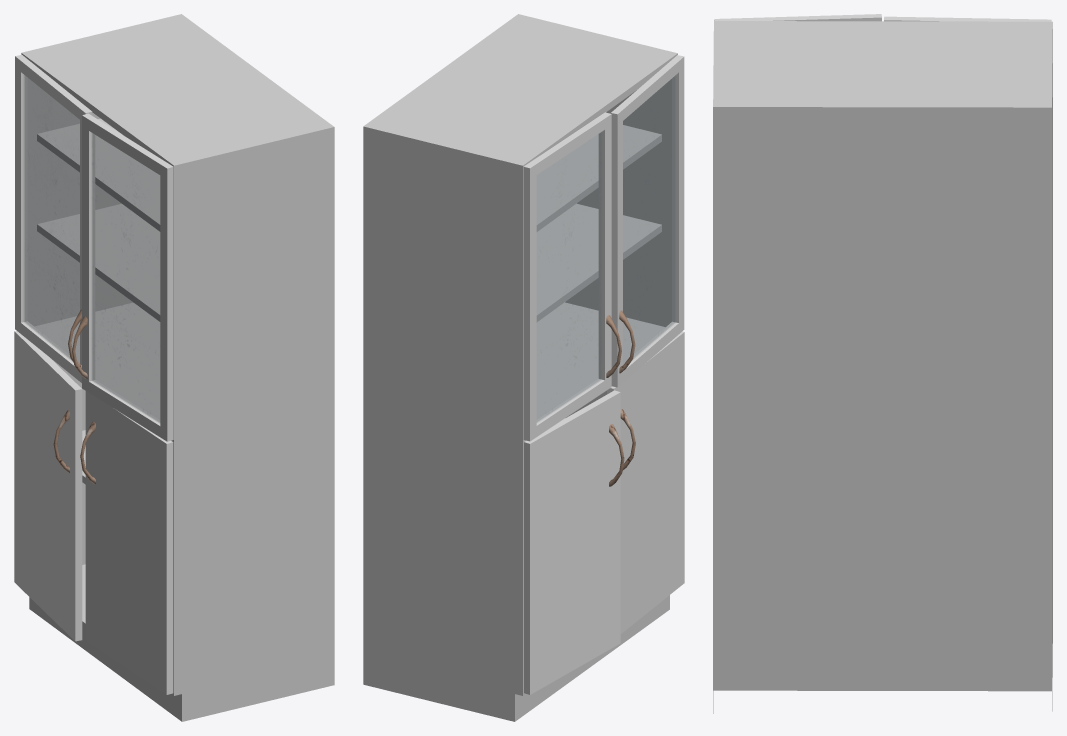
Rendered from cabinet-3.glb.
3 renders of one model, left to right at view 1: azimuth 30°, elevation 25°; view 2: azimuth 150°, elevation 25°; view 3: azimuth 270°, elevation 25°, orthographic. The views are drawn at different scales.
Parts seen in each view (by area): view 1: bookCaseV2_005_wood_0, Object027_wood_0, Object028_wood_0, Box002_parts_0, Box003_parts_0, Box002_wood_0, Box003_wood_0; view 2: bookCaseV2_005_wood_0, Object028_wood_0, Box003_parts_0, Object027_wood_0, Box002_parts_0, Box003_wood_0, Box002_wood_0; view 3: bookCaseV2_005_wood_0, Box002_wood_0, Box003_wood_0.
Boxes of the visible parts, bbox=[...] form: bookCaseV2_005_wood_0: bbox=[21, 14, 334, 721]; Object027_wood_0: bbox=[85, 391, 173, 694]; Object028_wood_0: bbox=[14, 331, 82, 641]; Box002_parts_0: bbox=[72, 133, 159, 422]; Box003_parts_0: bbox=[24, 75, 81, 368]; Box002_wood_0: bbox=[82, 113, 173, 441]; Box003_wood_0: bbox=[15, 54, 92, 382]; bookCaseV2_005_wood_0: bbox=[363, 14, 677, 721]; Object028_wood_0: bbox=[524, 390, 620, 694]; Box003_parts_0: bbox=[537, 132, 621, 422]; Object027_wood_0: bbox=[607, 331, 684, 633]; Box002_parts_0: bbox=[619, 76, 675, 373]; Box003_wood_0: bbox=[523, 112, 611, 441]; Box002_wood_0: bbox=[611, 55, 684, 387]; bookCaseV2_005_wood_0: bbox=[713, 21, 1052, 713]; Box002_wood_0: bbox=[714, 14, 881, 21]; Box003_wood_0: bbox=[884, 16, 1051, 21].
Bounding box in the file's own units: 0.7297 × 2 × 1.
4 materials, 1 textured.
